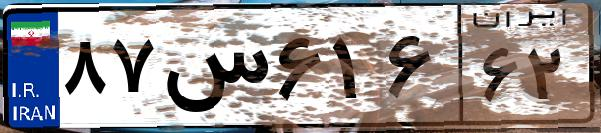1: (330, 28, 385, 110)
2: (525, 38, 570, 115)
6: (270, 28, 330, 110), (385, 28, 445, 110), (475, 38, 525, 113)
7: (110, 28, 158, 98)
8: (57, 26, 110, 100)
س: (158, 20, 270, 120)
